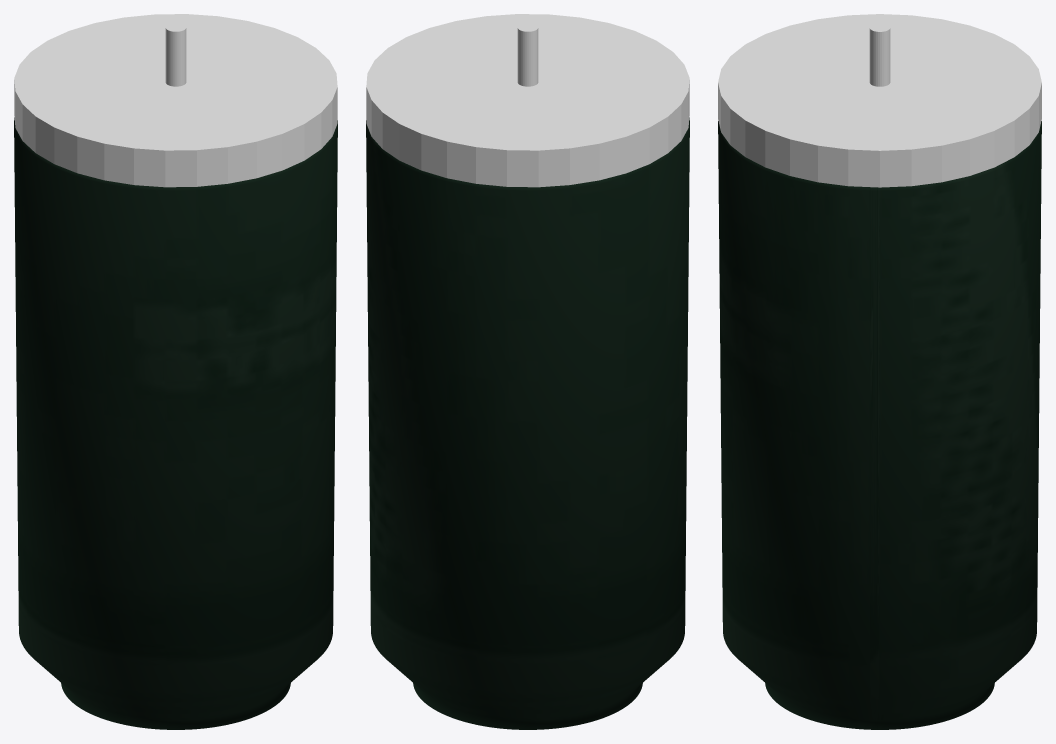
Rendered from dishware__green_straw_tumbler.glb.
3 renders of one model, left to right at view 1: azimuth 30°, elevation 25°; view 2: azimuth 150°, elevation 25°; view 3: azimuth 270°, elevation 25°, orthographic.
Visible parts, largest first — view 1: body, lid, straw; view 2: body, lid, straw; view 3: body, lid, straw.
Part boxes in pixels (x1=…): body: x1=14, y1=117, x2=337, y2=729; lid: x1=14, y1=14, x2=337, y2=187; straw: x1=165, y1=23, x2=186, y2=86; body: x1=366, y1=117, x2=689, y2=729; lid: x1=366, y1=14, x2=689, y2=187; straw: x1=517, y1=23, x2=538, y2=86; body: x1=718, y1=121, x2=1041, y2=729; lid: x1=718, y1=14, x2=1041, y2=187; straw: x1=869, y1=23, x2=890, y2=86.
Bounding box in the file's own units: 0.088 × 0.196 × 0.088.
1 material, 1 textured.
